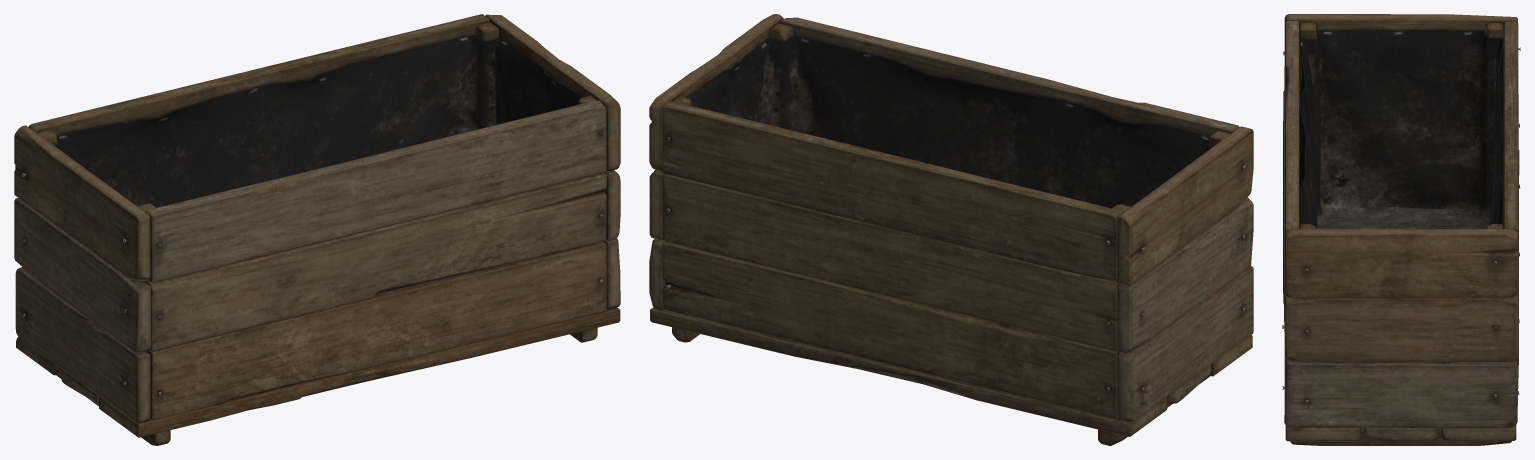
The model's file is planter_box_01.glb.
The picture shows the model from 3 angles, left to right: view 1: azimuth 30°, elevation 25°; view 2: azimuth 150°, elevation 25°; view 3: azimuth 270°, elevation 25°; orthographic projection. The views are drawn at different scales.
Parts seen in each view (by area): view 1: planter_box_01; view 2: planter_box_01; view 3: planter_box_01.
Part boxes in pixels (x1,y1,x2,y2): planter_box_01: (14,14,620,445); planter_box_01: (649,14,1253,445); planter_box_01: (1282,14,1520,445).
Bounding box in the file's own units: 0.9126 × 0.4249 × 0.4137.
1 material, 1 textured.
